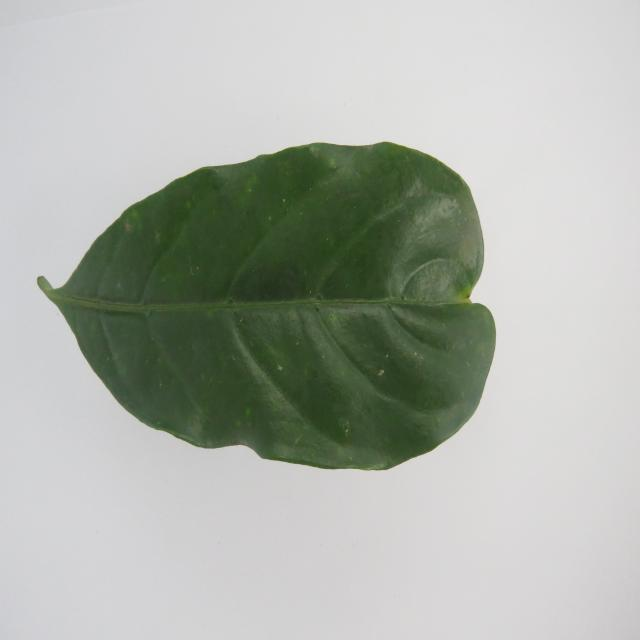DeficienciaNutricional-Boro: (38, 143, 495, 470)
